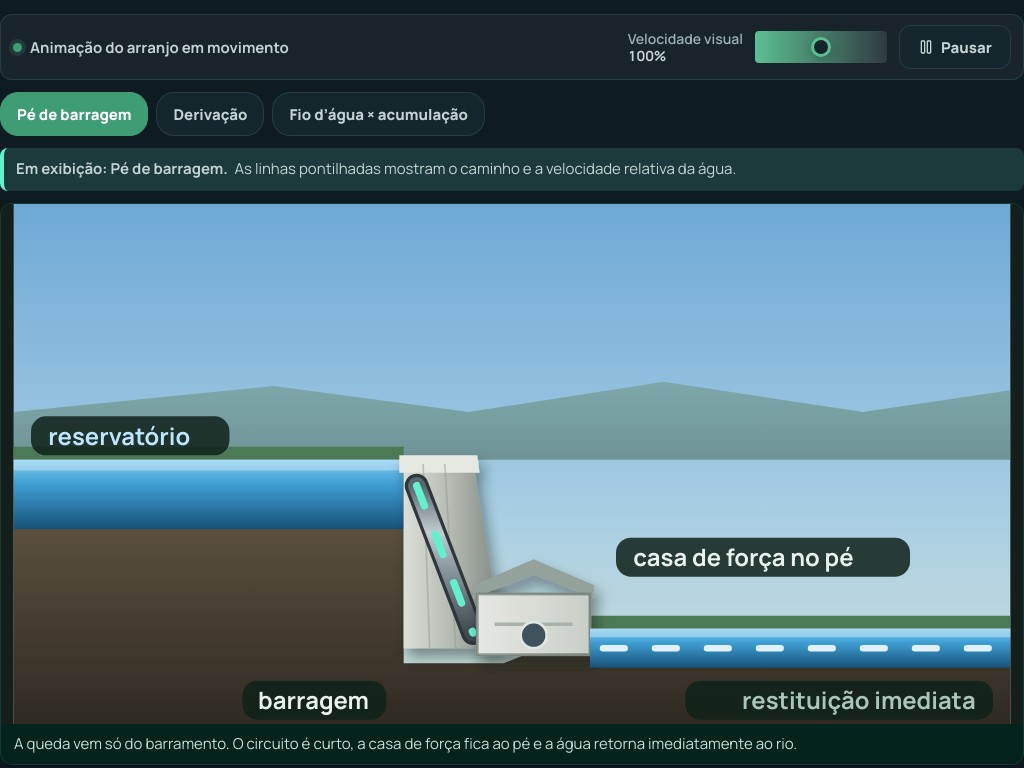
it: arranjos e usina reversível › mostra um diagrama grande por vez com texto HTML completo
Expected: the element with class "hcm-svg-label" is shown, [48,419,190,451]
Expected: the element with class "hcm-current-state" shows "Pé de barragem", [110,158,223,179]
Click the tab "Derivação": (210,114) [156,92,264,136]
(page scrolled)
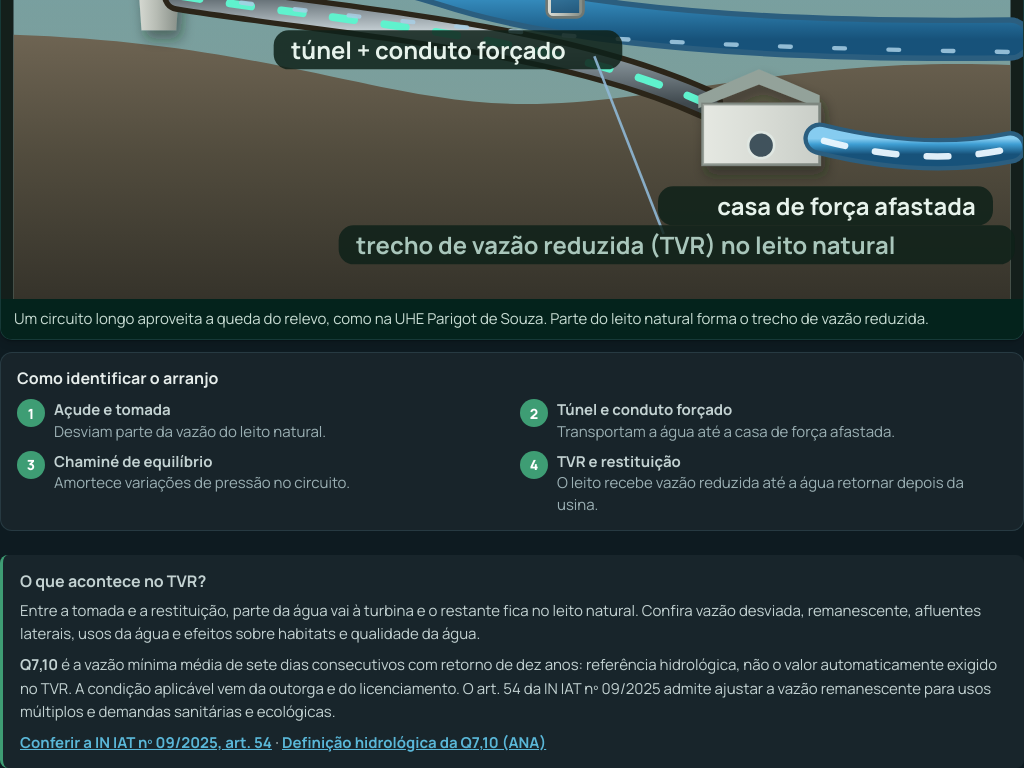
Result: the element with class "hcm-hydrology-note" shows "Q7,10" at [20,654,58,675]
Result: the element with class "hcm-hydrology-note" shows "não o valor automaticamente exigido" at [20,654,997,722]
Result: the element with class "hcm-hydrology-note" shows "art. 54" at [20,654,997,722]
